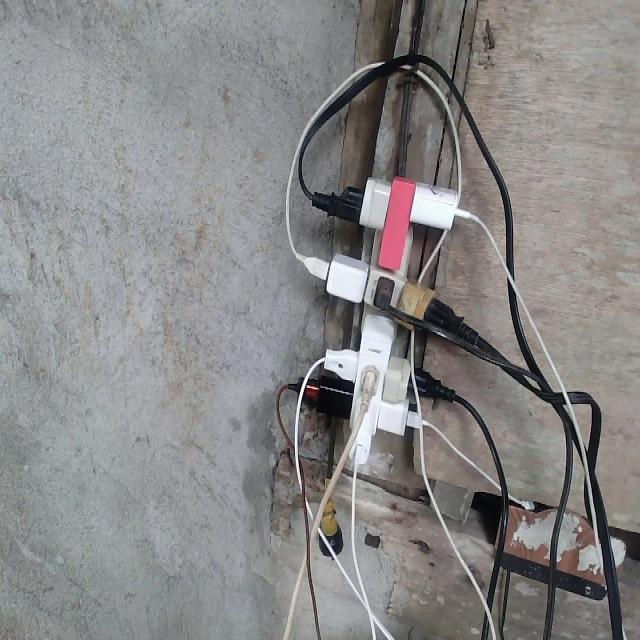-: (300, 172, 461, 463)
